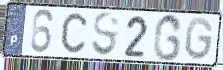2: (121, 12, 152, 59)
6: (30, 8, 55, 56)
C: (60, 11, 88, 55)
G: (152, 13, 184, 63), (184, 16, 215, 63)
S: (90, 11, 121, 59)
